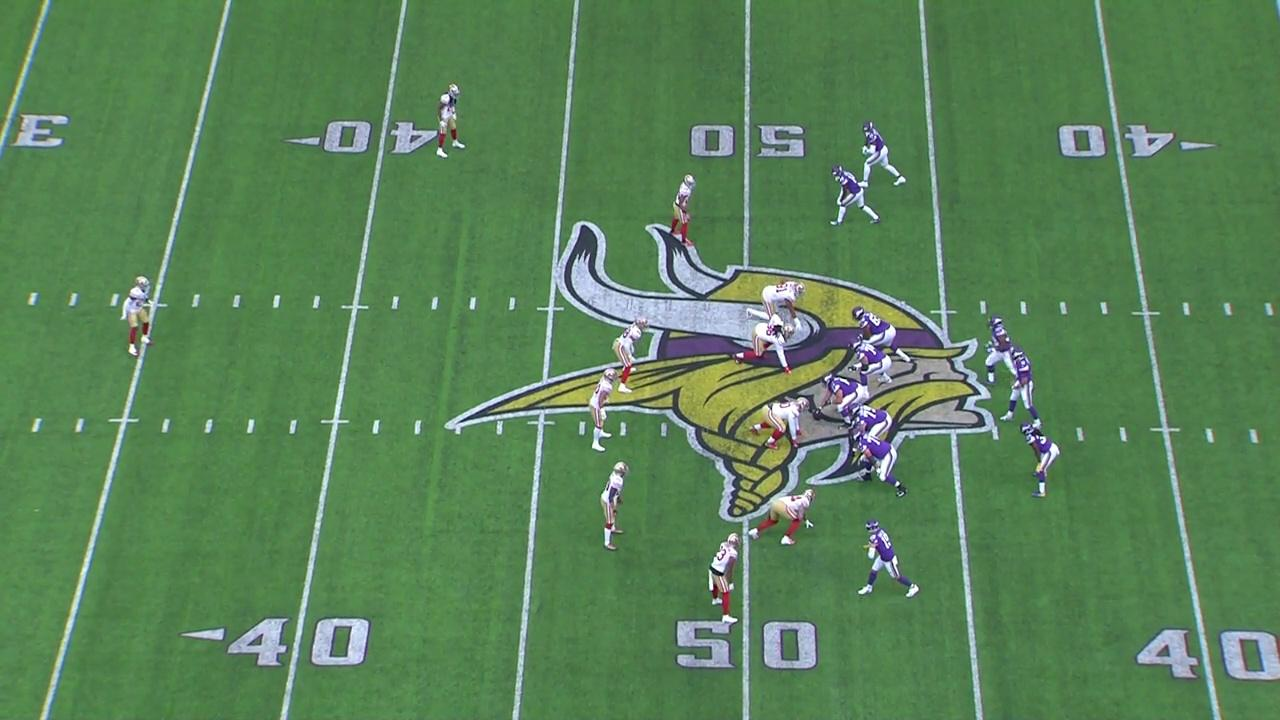player: (859, 520, 920, 599), (980, 313, 1037, 394), (848, 428, 908, 498), (749, 487, 818, 547), (732, 320, 799, 377), (999, 345, 1043, 431), (850, 305, 911, 367), (829, 167, 887, 231), (857, 121, 908, 192), (747, 396, 811, 452), (744, 278, 808, 332), (1018, 420, 1061, 499), (707, 532, 742, 624), (811, 374, 867, 431), (596, 460, 630, 553), (121, 272, 156, 361), (611, 315, 650, 394), (432, 81, 467, 162), (587, 367, 619, 453), (848, 340, 895, 392), (669, 173, 698, 248), (845, 403, 893, 442)
